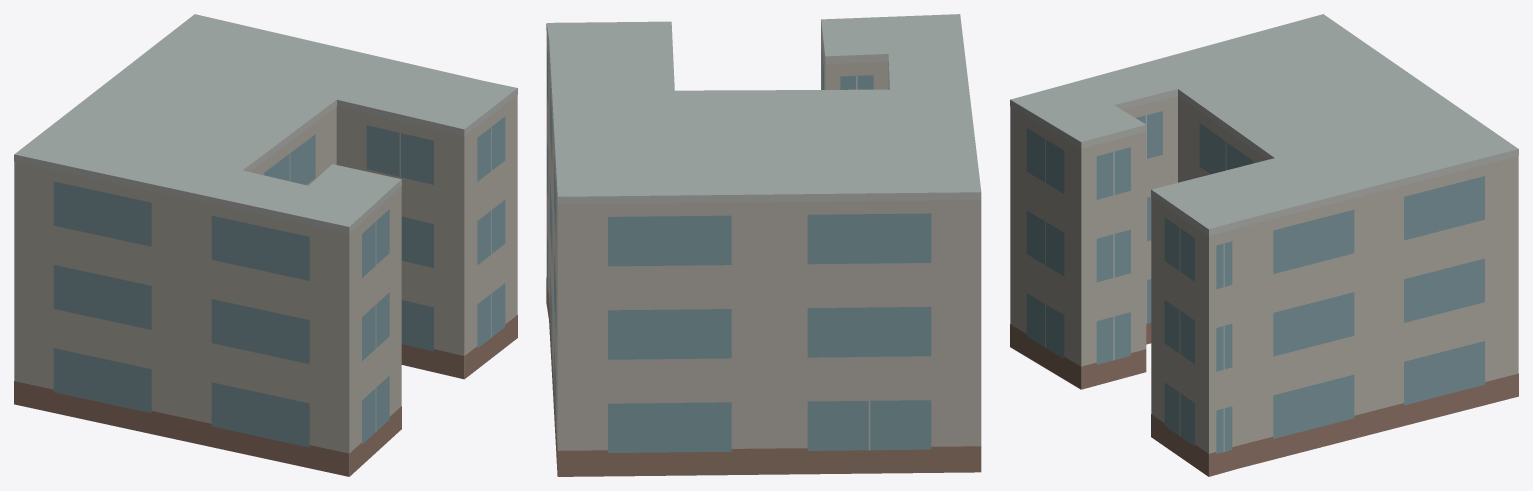
Rendered from survey-upis-32955687.glb.
3 views of the same model, side by side, from view 1: azimuth 30°, elevation 25°; view 2: azimuth 150°, elevation 25°; view 3: azimuth 270°, elevation 25° (orthographic). The views are drawn at different scales.
Parts seen in each view (by area): view 1: survey-upis-32955687.tmp; view 2: survey-upis-32955687.tmp; view 3: survey-upis-32955687.tmp.
Boxes of the visible parts, <box> form: survey-upis-32955687.tmp: <box>14,14,517,476</box>; survey-upis-32955687.tmp: <box>546,14,981,476</box>; survey-upis-32955687.tmp: <box>1010,14,1518,476</box>.
Bounding box in the file's own units: 16.62 × 8.9 × 16.59.
